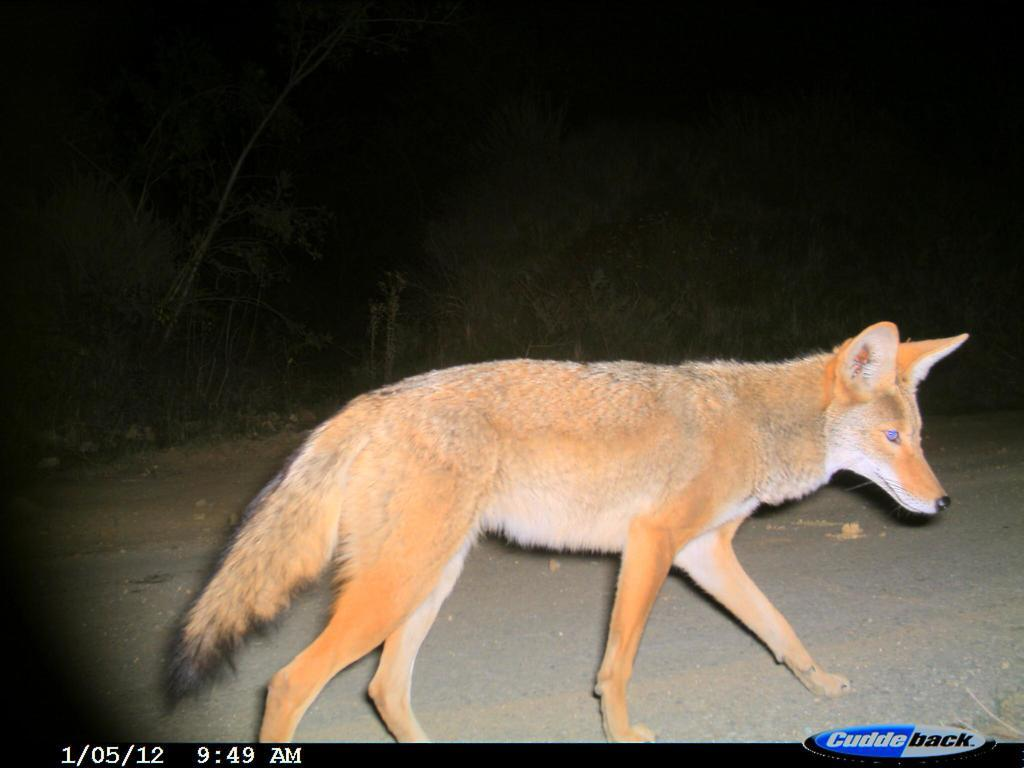coyote: (159, 310, 977, 754)
